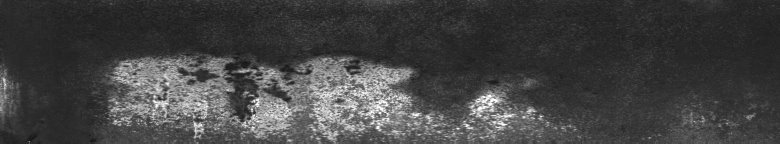kb: (248, 52, 581, 136)
